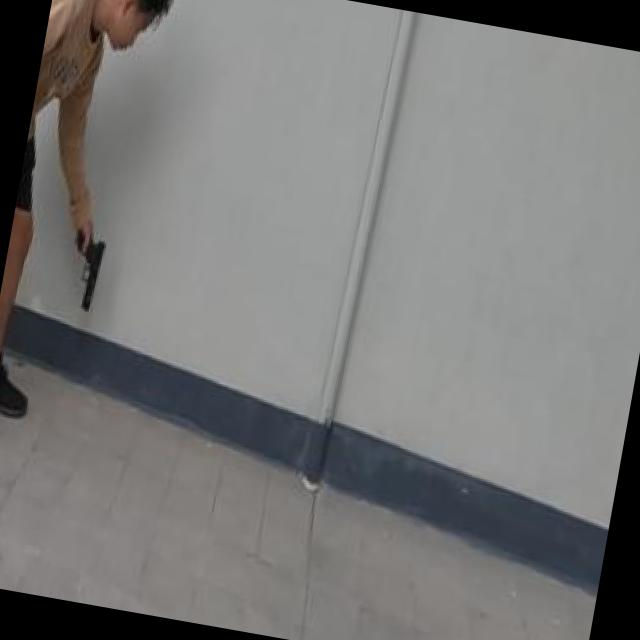Guns: (61, 222, 114, 319)
